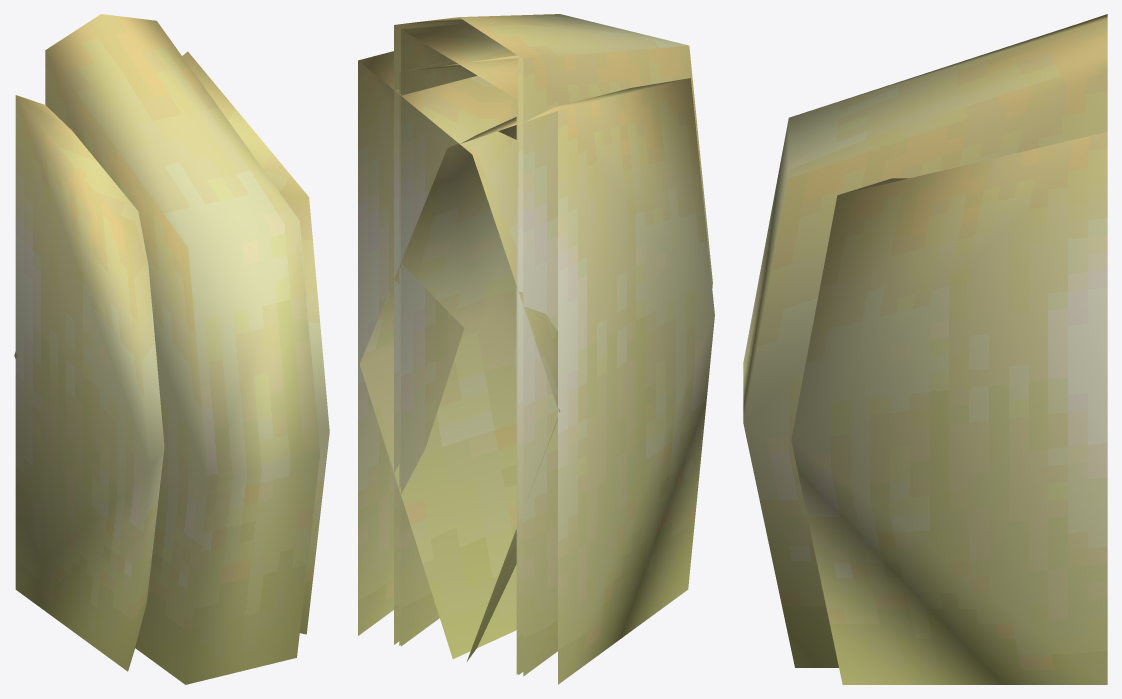
3 views of the same model, side by side, from view 1: azimuth 30°, elevation 25°; view 2: azimuth 150°, elevation 25°; view 3: azimuth 270°, elevation 25° (orthographic). The views are drawn at different scales.
Visible parts, largest first — view 1: 1087item558; view 2: 1087item558; view 3: 1087item558.
Part boxes in pixels (<box>): 1087item558: <box>14,14,329,684</box>; 1087item558: <box>358,14,714,684</box>; 1087item558: <box>743,14,1107,684</box>.
Bounding box in the file's own units: 0.1743 × 0.532 × 0.2839.
Materials: 1 (1 with a texture image).
